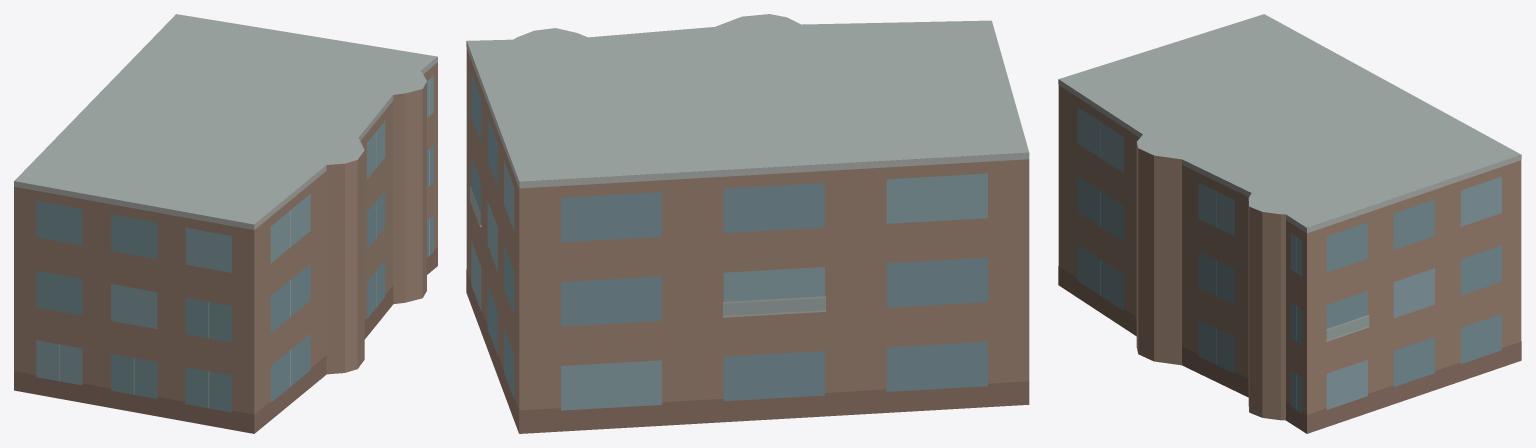
The model's file is survey-upis-32778441.glb.
3 renders of one model, left to right at view 1: azimuth 30°, elevation 25°; view 2: azimuth 150°, elevation 25°; view 3: azimuth 270°, elevation 25°, orthographic. The views are drawn at different scales.
Parts seen in each view (by area): view 1: survey-upis-32778441.tmp; view 2: survey-upis-32778441.tmp; view 3: survey-upis-32778441.tmp.
Part boxes in pixels (x1,y1,x2,y2): survey-upis-32778441.tmp: (14,14,437,433); survey-upis-32778441.tmp: (466,14,1029,433); survey-upis-32778441.tmp: (1058,14,1521,433).
Bounding box in the file's own units: 20.38 × 9.15 × 18.65.
